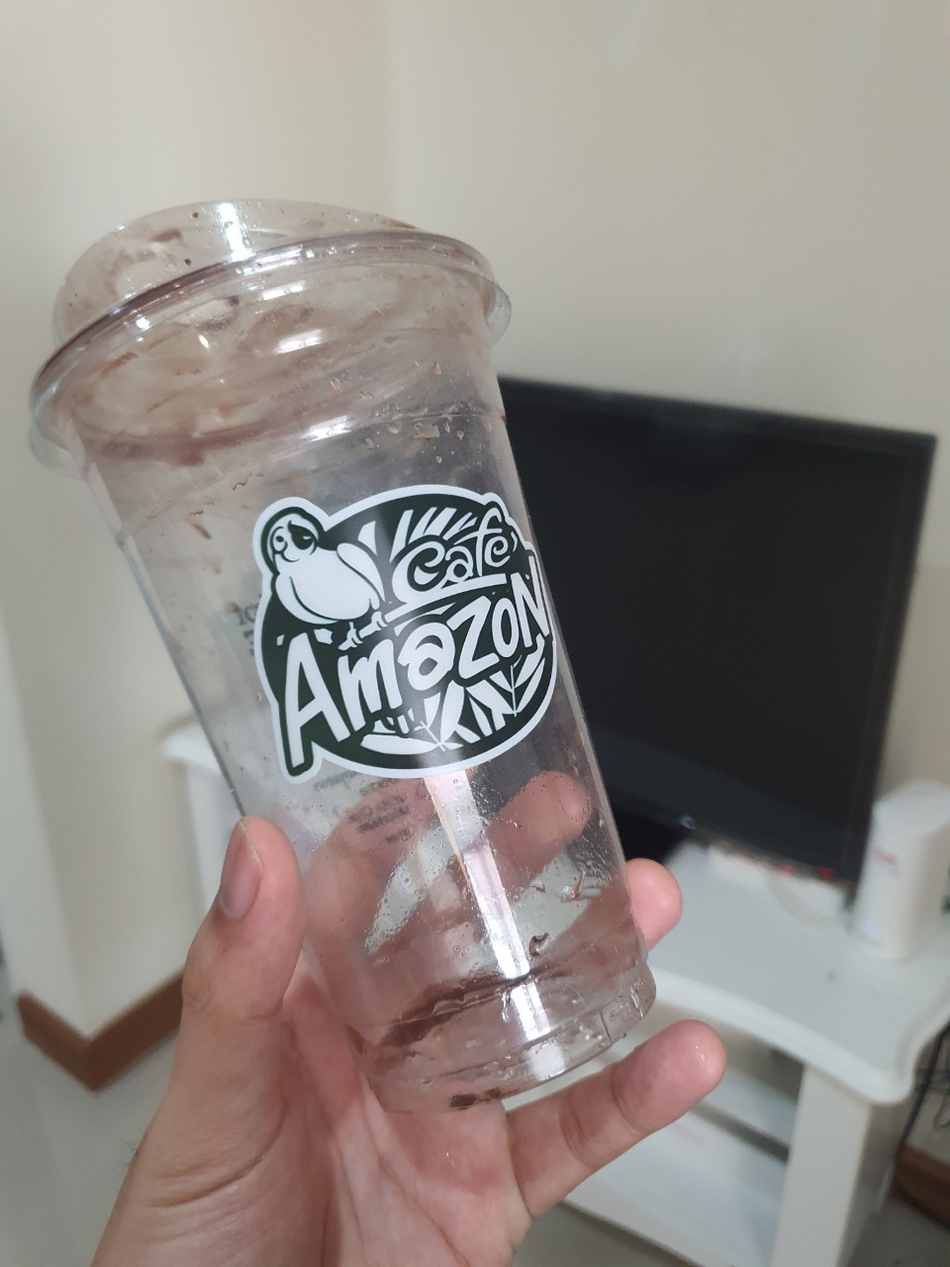plastic: (16, 182, 664, 1144)
